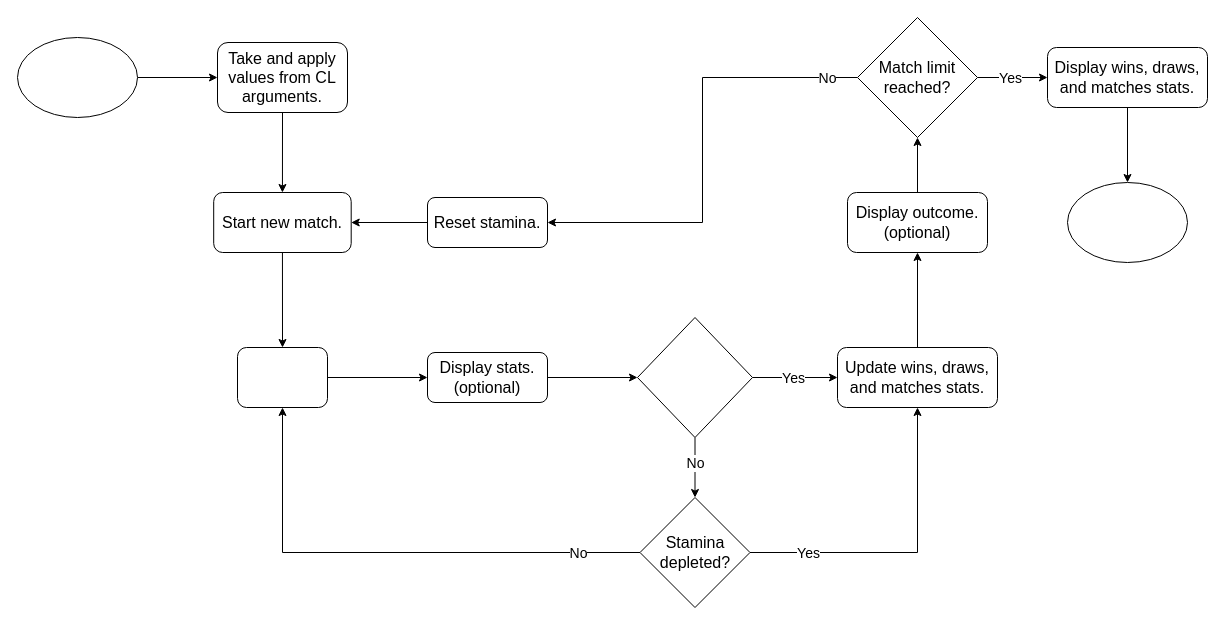
Some shapes in this 1225 by 625 pixel diagram are drawn without their labels. The shapes that lost their labels are listed below. From the top down, each one's centre as x and y in pixels, then its label:
At [77,77]: "Start program.".
At [1127,222]: "End program.".
At [282,377]: "Run joust action.".
At [694,377]: "Dismounted?".
